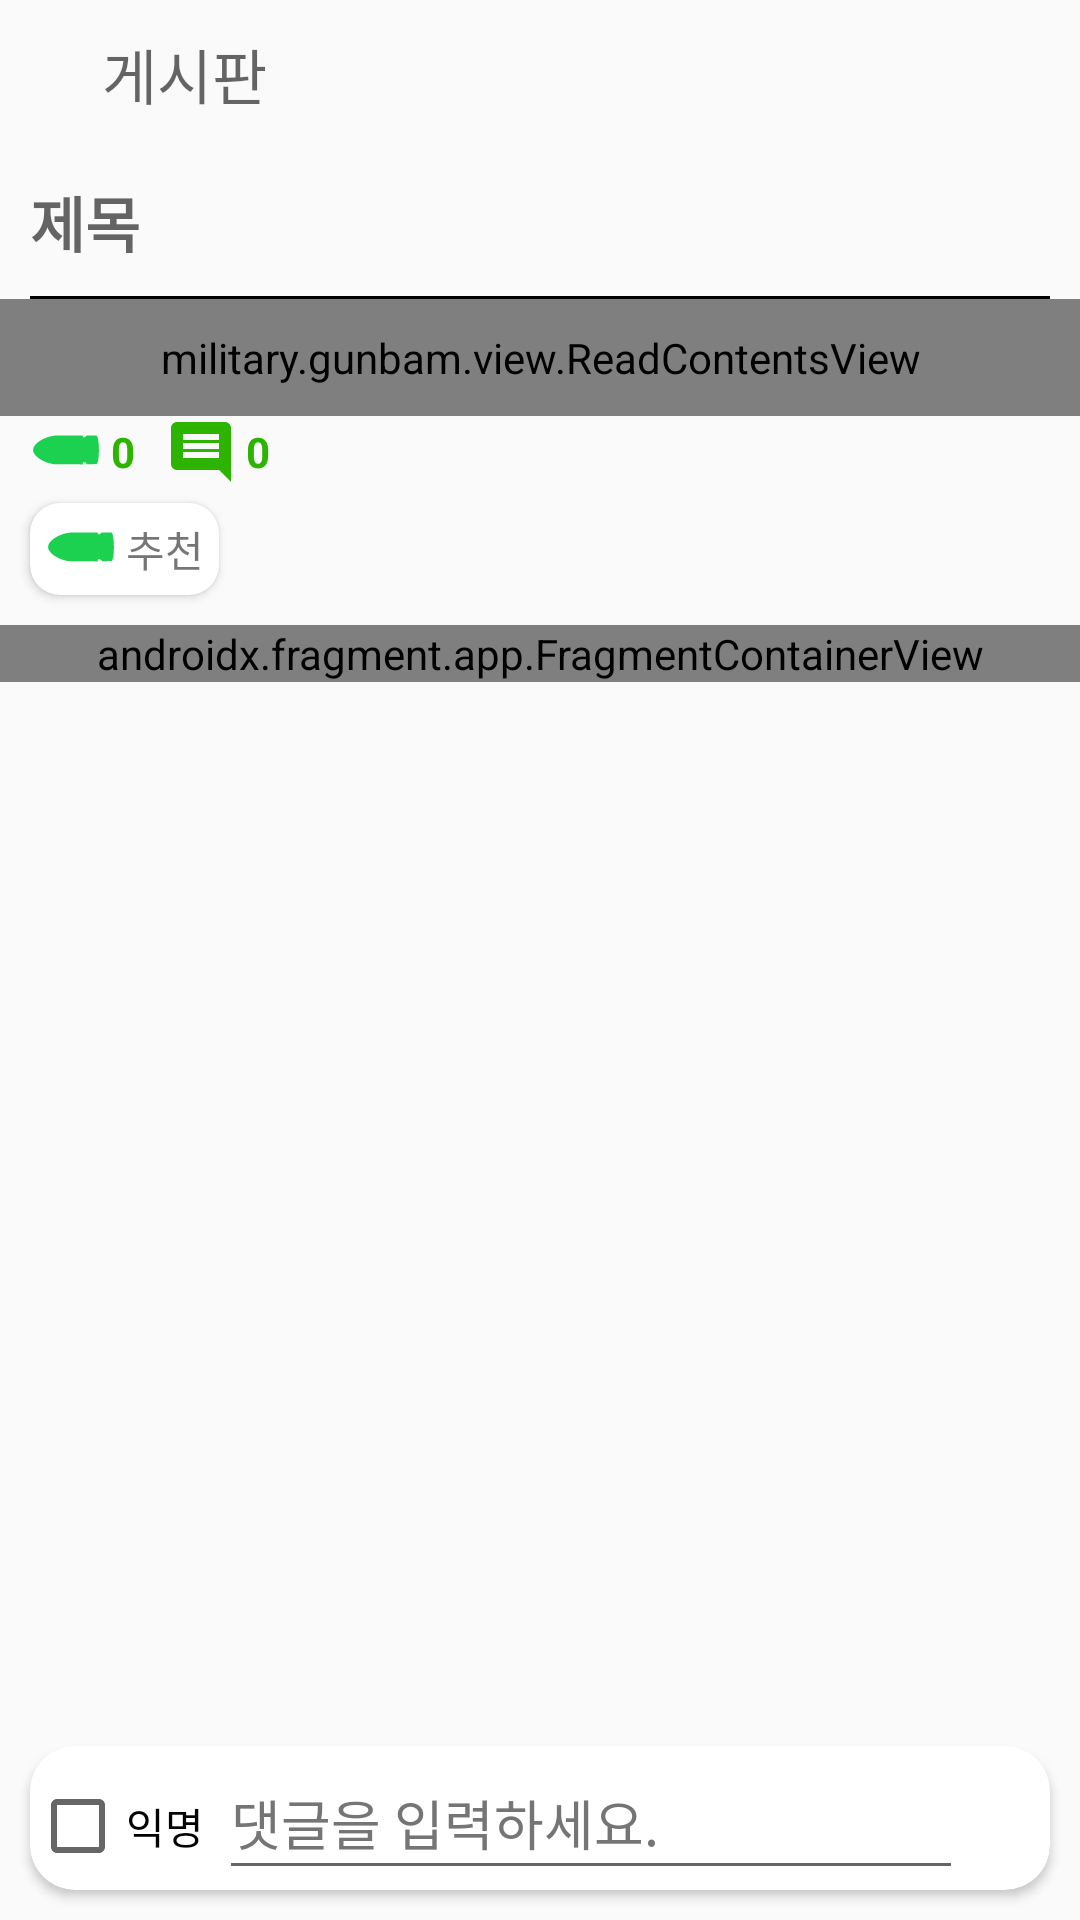

Where to tap for icons on this 1080 × 1920 app screen, as [x,y]:
bullet shape: [66,450], [81,547]
comment: [201,452]
